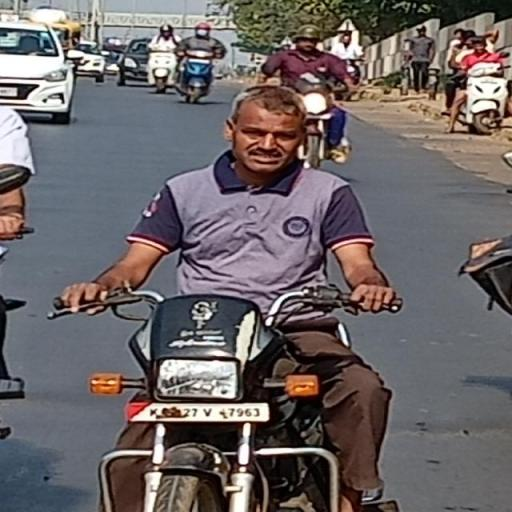bike: (26, 82, 412, 512)
numberplate: (118, 402, 271, 430)
withouthelmet: (228, 88, 304, 172)
